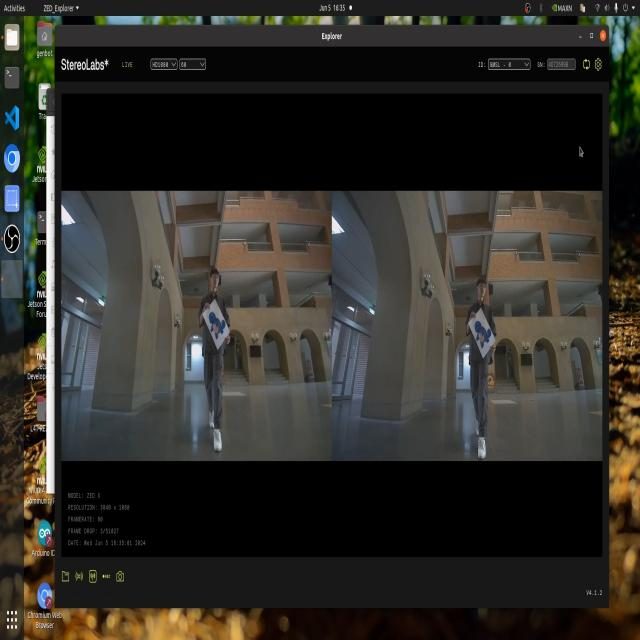blue: (202, 306, 235, 346), (468, 315, 496, 353)
